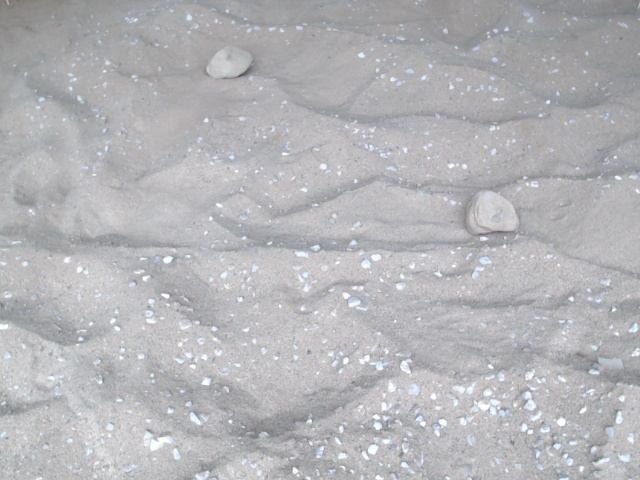rock: (458, 184, 524, 240), (202, 42, 257, 83)
